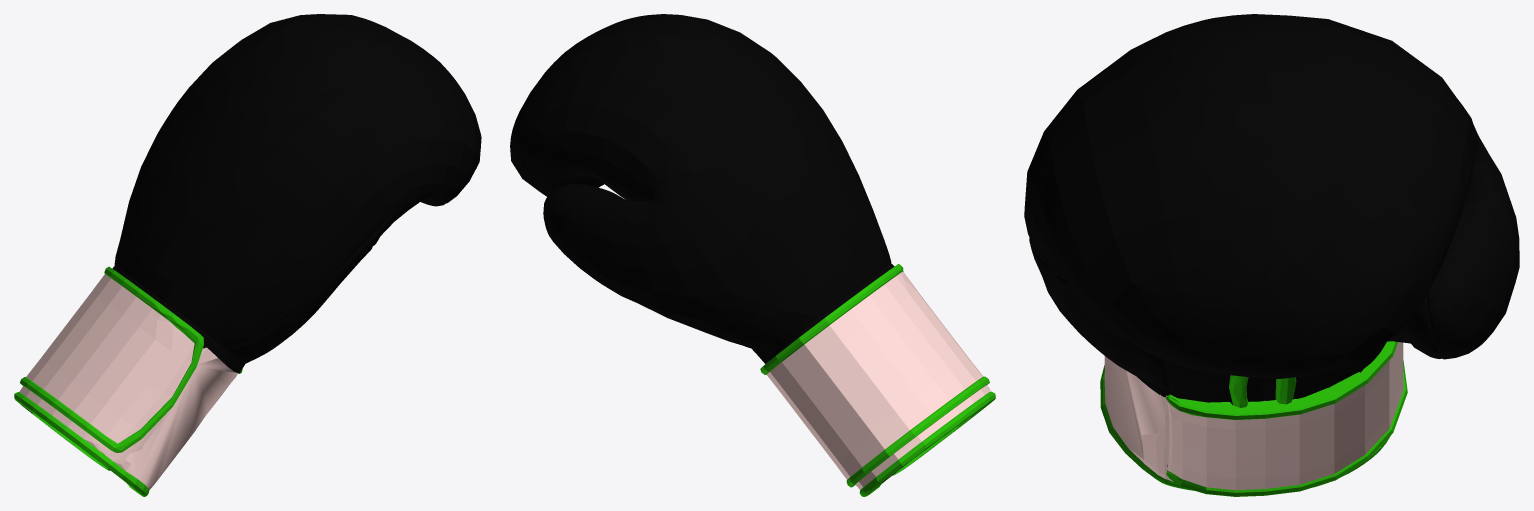
File: Yesil-_Siyah_Eldiven.fbx
3 views of the same model, side by side, from view 1: azimuth 30°, elevation 25°; view 2: azimuth 150°, elevation 25°; view 3: azimuth 270°, elevation 25° (orthographic). The views are drawn at different scales.
Visible parts, largest first — view 1: 15969_Boxing_Glove_new; view 2: 15969_Boxing_Glove_new; view 3: 15969_Boxing_Glove_new.
Part boxes in pixels (x1,y1,x2,y2): 15969_Boxing_Glove_new: (14,14,481,496); 15969_Boxing_Glove_new: (510,14,995,496); 15969_Boxing_Glove_new: (1024,14,1519,496).
Size of the model in its own units: 2146 by 1903 by 1369.
